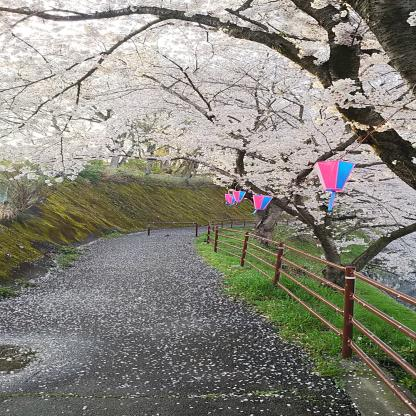Someiyoshino: (5, 0, 416, 278)
